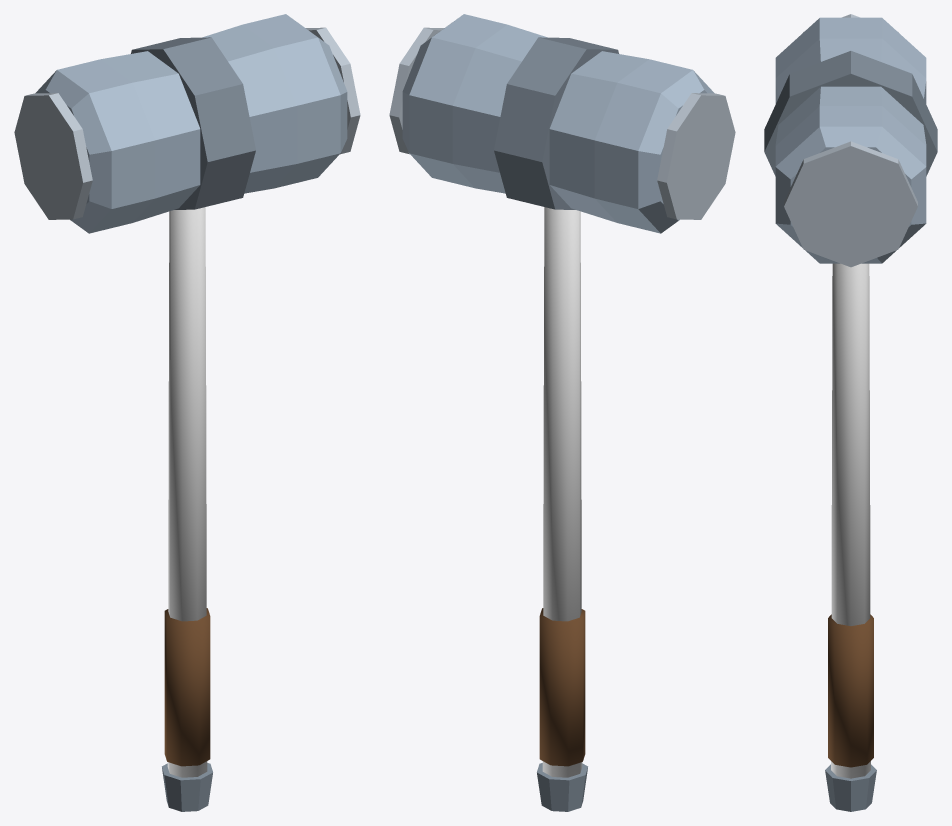
Rendered from titanium_hammer.glb.
3 renders of one model, left to right at view 1: azimuth 30°, elevation 25°; view 2: azimuth 150°, elevation 25°; view 3: azimuth 270°, elevation 25°, orthographic. The views are drawn at different scales.
Visible parts, largest first — view 1: titanium_hammer_v0; view 2: titanium_hammer_v0; view 3: titanium_hammer_v0.
Boxes of the visible parts, x1,y1,x2,y2 form: titanium_hammer_v0: (14, 14, 360, 811); titanium_hammer_v0: (389, 14, 735, 811); titanium_hammer_v0: (764, 14, 937, 811).
Bounding box in the file's own units: 0.344 × 0.9004 × 0.1908.
